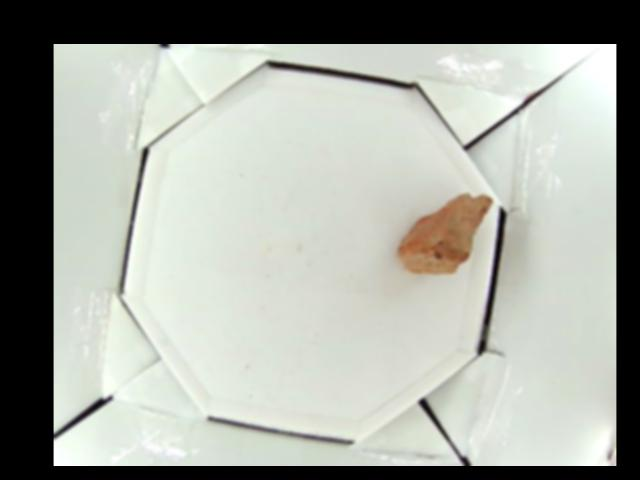Brisk: (398, 193, 496, 271)
